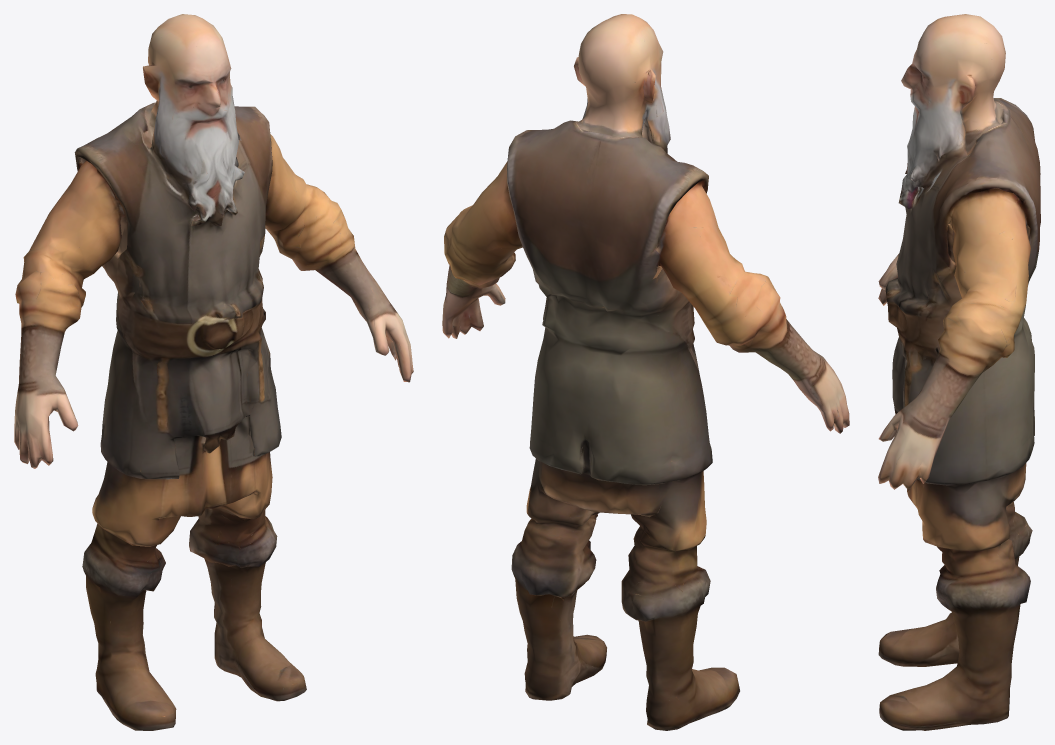
The model's file is meshy_model.glb.
3 renders of one model, left to right at view 1: azimuth 30°, elevation 25°; view 2: azimuth 150°, elevation 25°; view 3: azimuth 270°, elevation 25°, orthographic.
Size of the model in its own units: 1.21 by 2.01 by 0.4399.
1 material, 1 textured.
